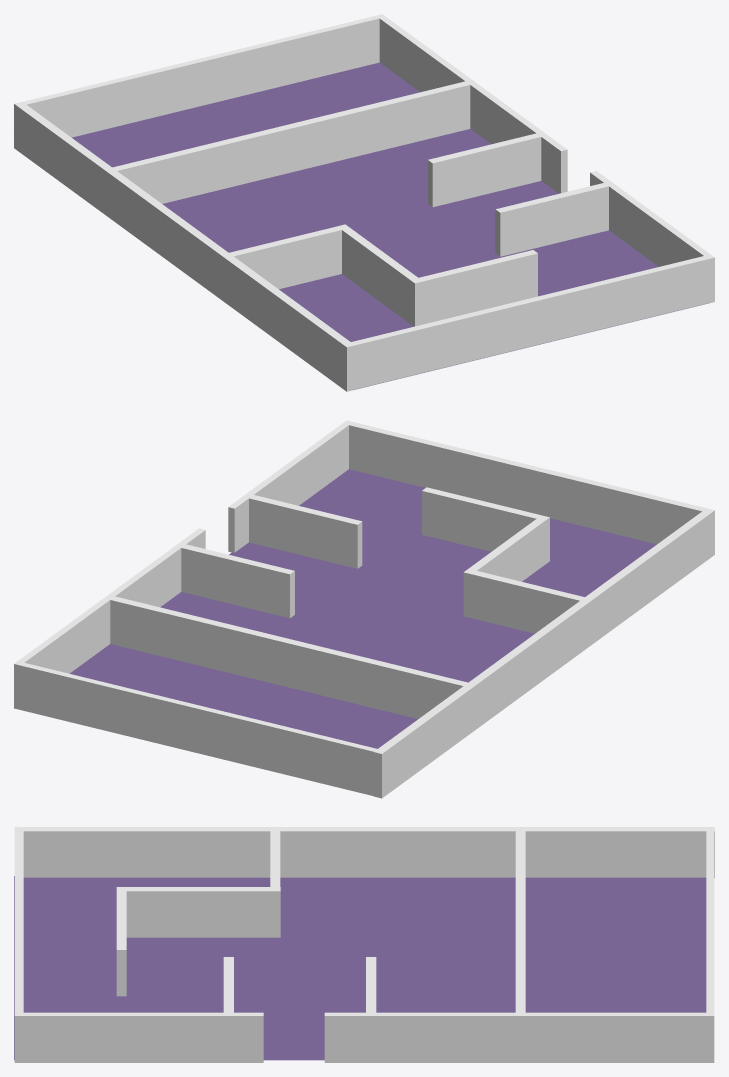
File: maps_87.fbx
3 views of the same model, one above another, from view 1: azimuth 30°, elevation 25°; view 2: azimuth 150°, elevation 25°; view 3: azimuth 270°, elevation 25° (orthographic). The views are drawn at different scales.
Parts seen in each view (by area): view 1: wall_01_08_geo, wall_01_07_geo, wall_01_05_geo, wall_01_07_geo8, wall_01_09_geo, wall_01_06_geo1, wall_01_07_geo11, wall_01_07_geo9, wall_01_07_geo10, wall_01_06_geo, wall_01_07_geo7, wall_01_07_geo6; view 2: wall_01_08_geo, wall_01_07_geo, wall_01_09_geo, wall_01_07_geo8, wall_01_05_geo, wall_01_06_geo1, wall_01_07_geo10, wall_01_07_geo9, wall_01_06_geo, wall_01_07_geo11, wall_01_07_geo7, wall_01_07_geo6; view 3: wall_01_08_geo, wall_01_07_geo, wall_01_06_geo1, wall_01_06_geo, wall_01_07_geo6, wall_01_09_geo, wall_01_07_geo8, wall_01_05_geo, wall_01_07_geo11, wall_01_07_geo7, wall_01_07_geo9, wall_01_07_geo10.
Boxes of the visible parts, box(x1,y1,x2,y2) form: wall_01_08_geo: box(72, 62, 710, 389); wall_01_07_geo: box(14, 101, 354, 391); wall_01_05_geo: box(351, 256, 708, 389); wall_01_07_geo8: box(112, 81, 470, 203); wall_01_09_geo: box(23, 14, 385, 137); wall_01_06_geo1: box(379, 17, 567, 193); wall_01_07_geo11: box(410, 250, 537, 326); wall_01_07_geo9: box(428, 133, 541, 207); wall_01_07_geo10: box(495, 183, 608, 256); wall_01_06_geo: box(590, 171, 714, 303); wall_01_07_geo7: box(229, 226, 341, 289); wall_01_07_geo6: box(337, 224, 417, 323); wall_01_08_geo: box(69, 469, 656, 748); wall_01_07_geo: box(373, 508, 714, 798); wall_01_09_geo: box(14, 661, 377, 795); wall_01_07_geo8: box(110, 596, 467, 718); wall_01_05_geo: box(349, 422, 706, 544); wall_01_06_geo1: box(18, 528, 205, 673); wall_01_07_geo10: box(249, 495, 362, 568); wall_01_07_geo9: box(181, 544, 294, 618); wall_01_06_geo: box(228, 420, 352, 552); wall_01_07_geo11: box(422, 487, 549, 564); wall_01_07_geo7: box(472, 571, 584, 633); wall_01_07_geo6: box(463, 519, 544, 618); wall_01_08_geo: box(14, 876, 706, 1060); wall_01_07_geo: box(14, 827, 714, 878); wall_01_06_geo1: box(324, 1012, 706, 1062); wall_01_06_geo: box(14, 1012, 263, 1062); wall_01_07_geo6: box(126, 887, 280, 937); wall_01_09_geo: box(706, 831, 714, 1062); wall_01_07_geo8: box(515, 831, 525, 1012); wall_01_05_geo: box(14, 831, 23, 1012); wall_01_07_geo11: box(116, 887, 126, 996); wall_01_07_geo7: box(270, 831, 280, 886); wall_01_07_geo9: box(366, 957, 376, 1012); wall_01_07_geo10: box(223, 957, 233, 1012).
Size of the model in its own units: 76.85 by 8.87 by 120.
Materials: 1 (1 with a texture image).
